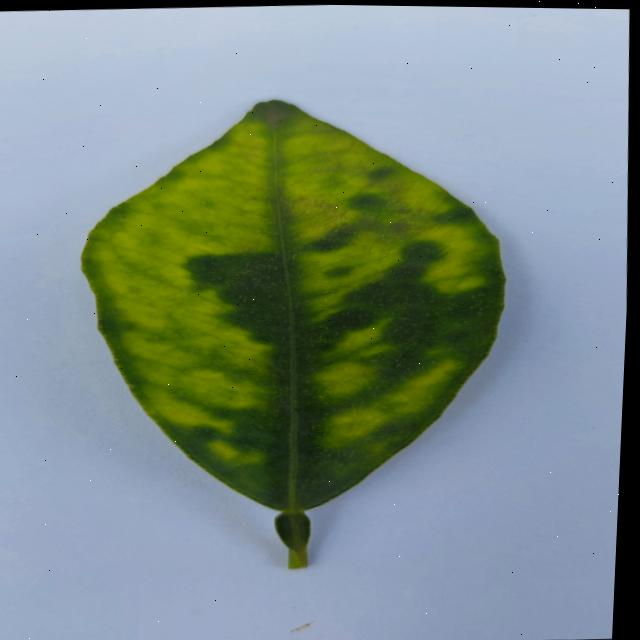greening: (82, 100, 503, 567)
